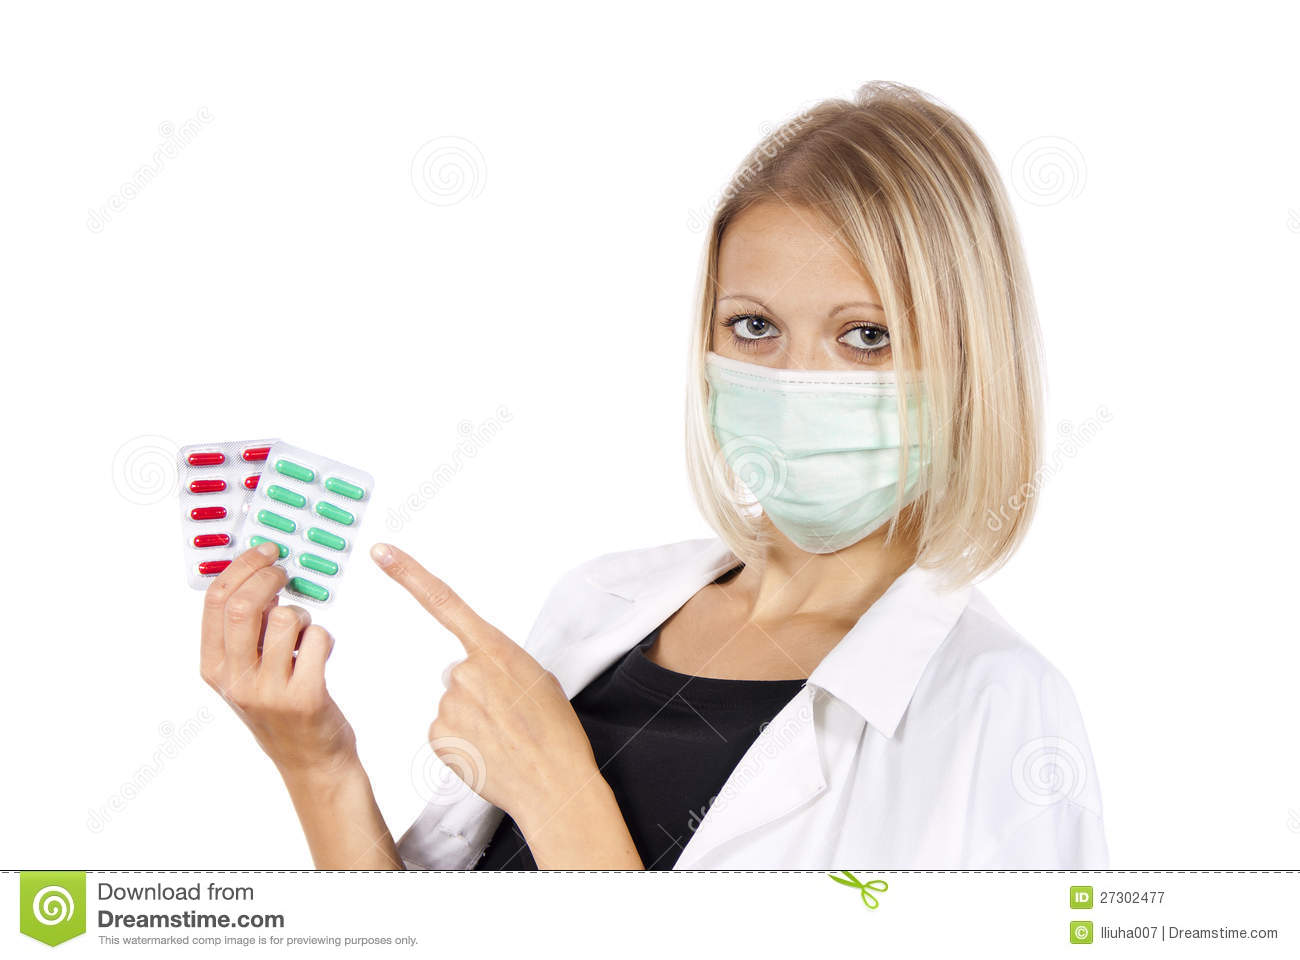mask: (702, 344, 954, 557)
